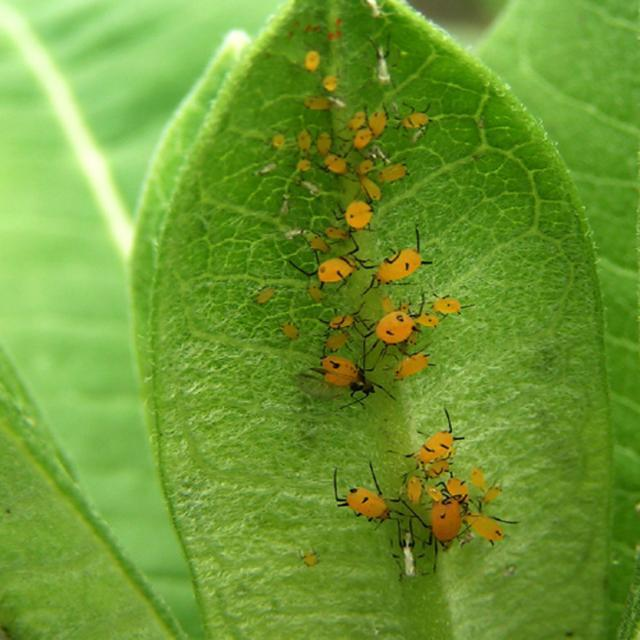Aphids: (328, 467, 396, 542), (301, 355, 387, 413), (397, 413, 470, 468), (375, 226, 440, 285), (386, 337, 438, 395), (425, 496, 466, 559), (370, 302, 414, 352), (311, 308, 363, 343)
